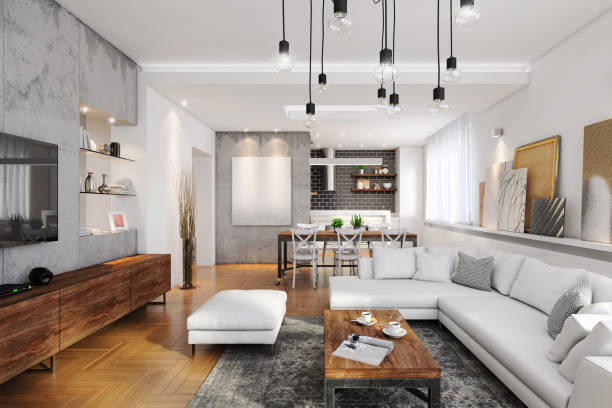TV: (0, 129, 60, 250)
TV stand: (0, 252, 173, 384)
chair: (185, 286, 288, 360)
dining table set: (275, 222, 419, 288)
small plant: (348, 210, 367, 234), (331, 217, 344, 232)
sofa: (328, 244, 612, 408)
table: (321, 305, 441, 408)
wall art: (228, 154, 294, 227), (580, 115, 612, 242), (485, 161, 528, 232), (527, 194, 568, 237)
